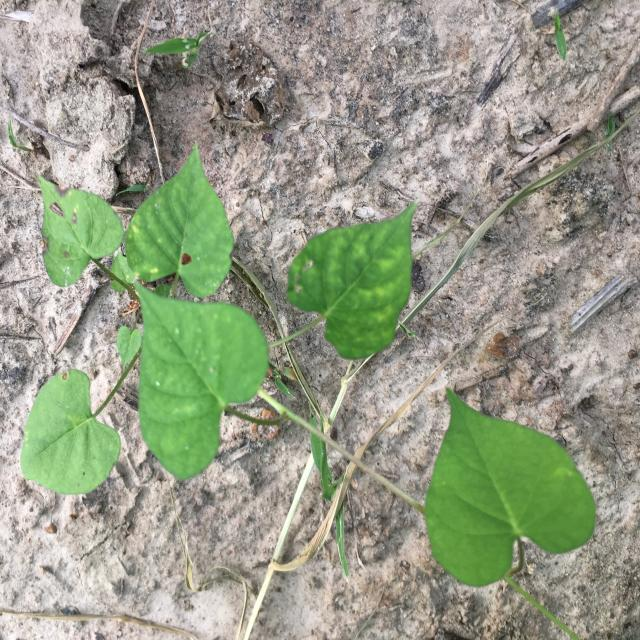MorningGlory: (21, 142, 596, 588)
